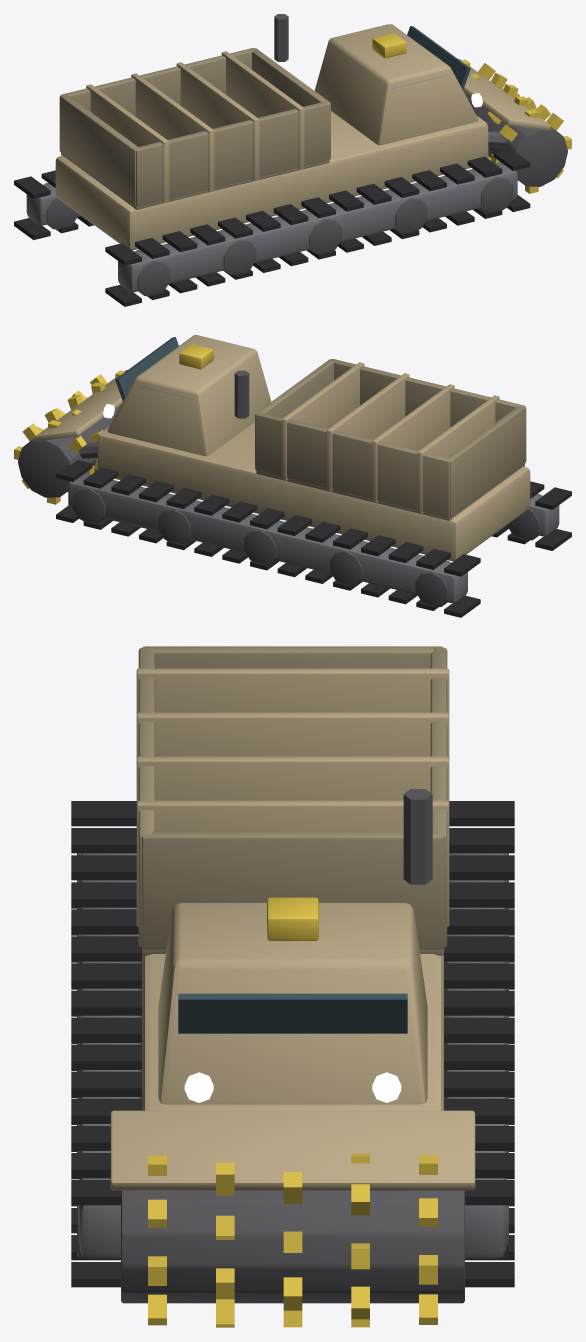
Rendered from harvester.glb.
3 views of the same model, one above another, from view 1: azimuth 30°, elevation 25°; view 2: azimuth 150°, elevation 25°; view 3: azimuth 270°, elevation 25° (orthographic). The views are drawn at different scales.
Visible parts, largest first — view 1: hull, track_R, track_L; view 2: hull, track_L, track_R; view 3: hull, track_L, track_R.
Part boxes in pixels (x1,y1,x2,y2): hull: (26, 14, 571, 296); track_R: (105, 149, 530, 306); track_L: (14, 170, 93, 239); hull: (14, 335, 559, 607); track_L: (56, 460, 480, 617); track_R: (492, 481, 571, 550); hull: (77, 646, 508, 1327); track_L: (444, 801, 514, 1287); track_R: (71, 801, 141, 1287).
Bounding box in the file's own units: 10.33 × 3.64 × 4.25.
